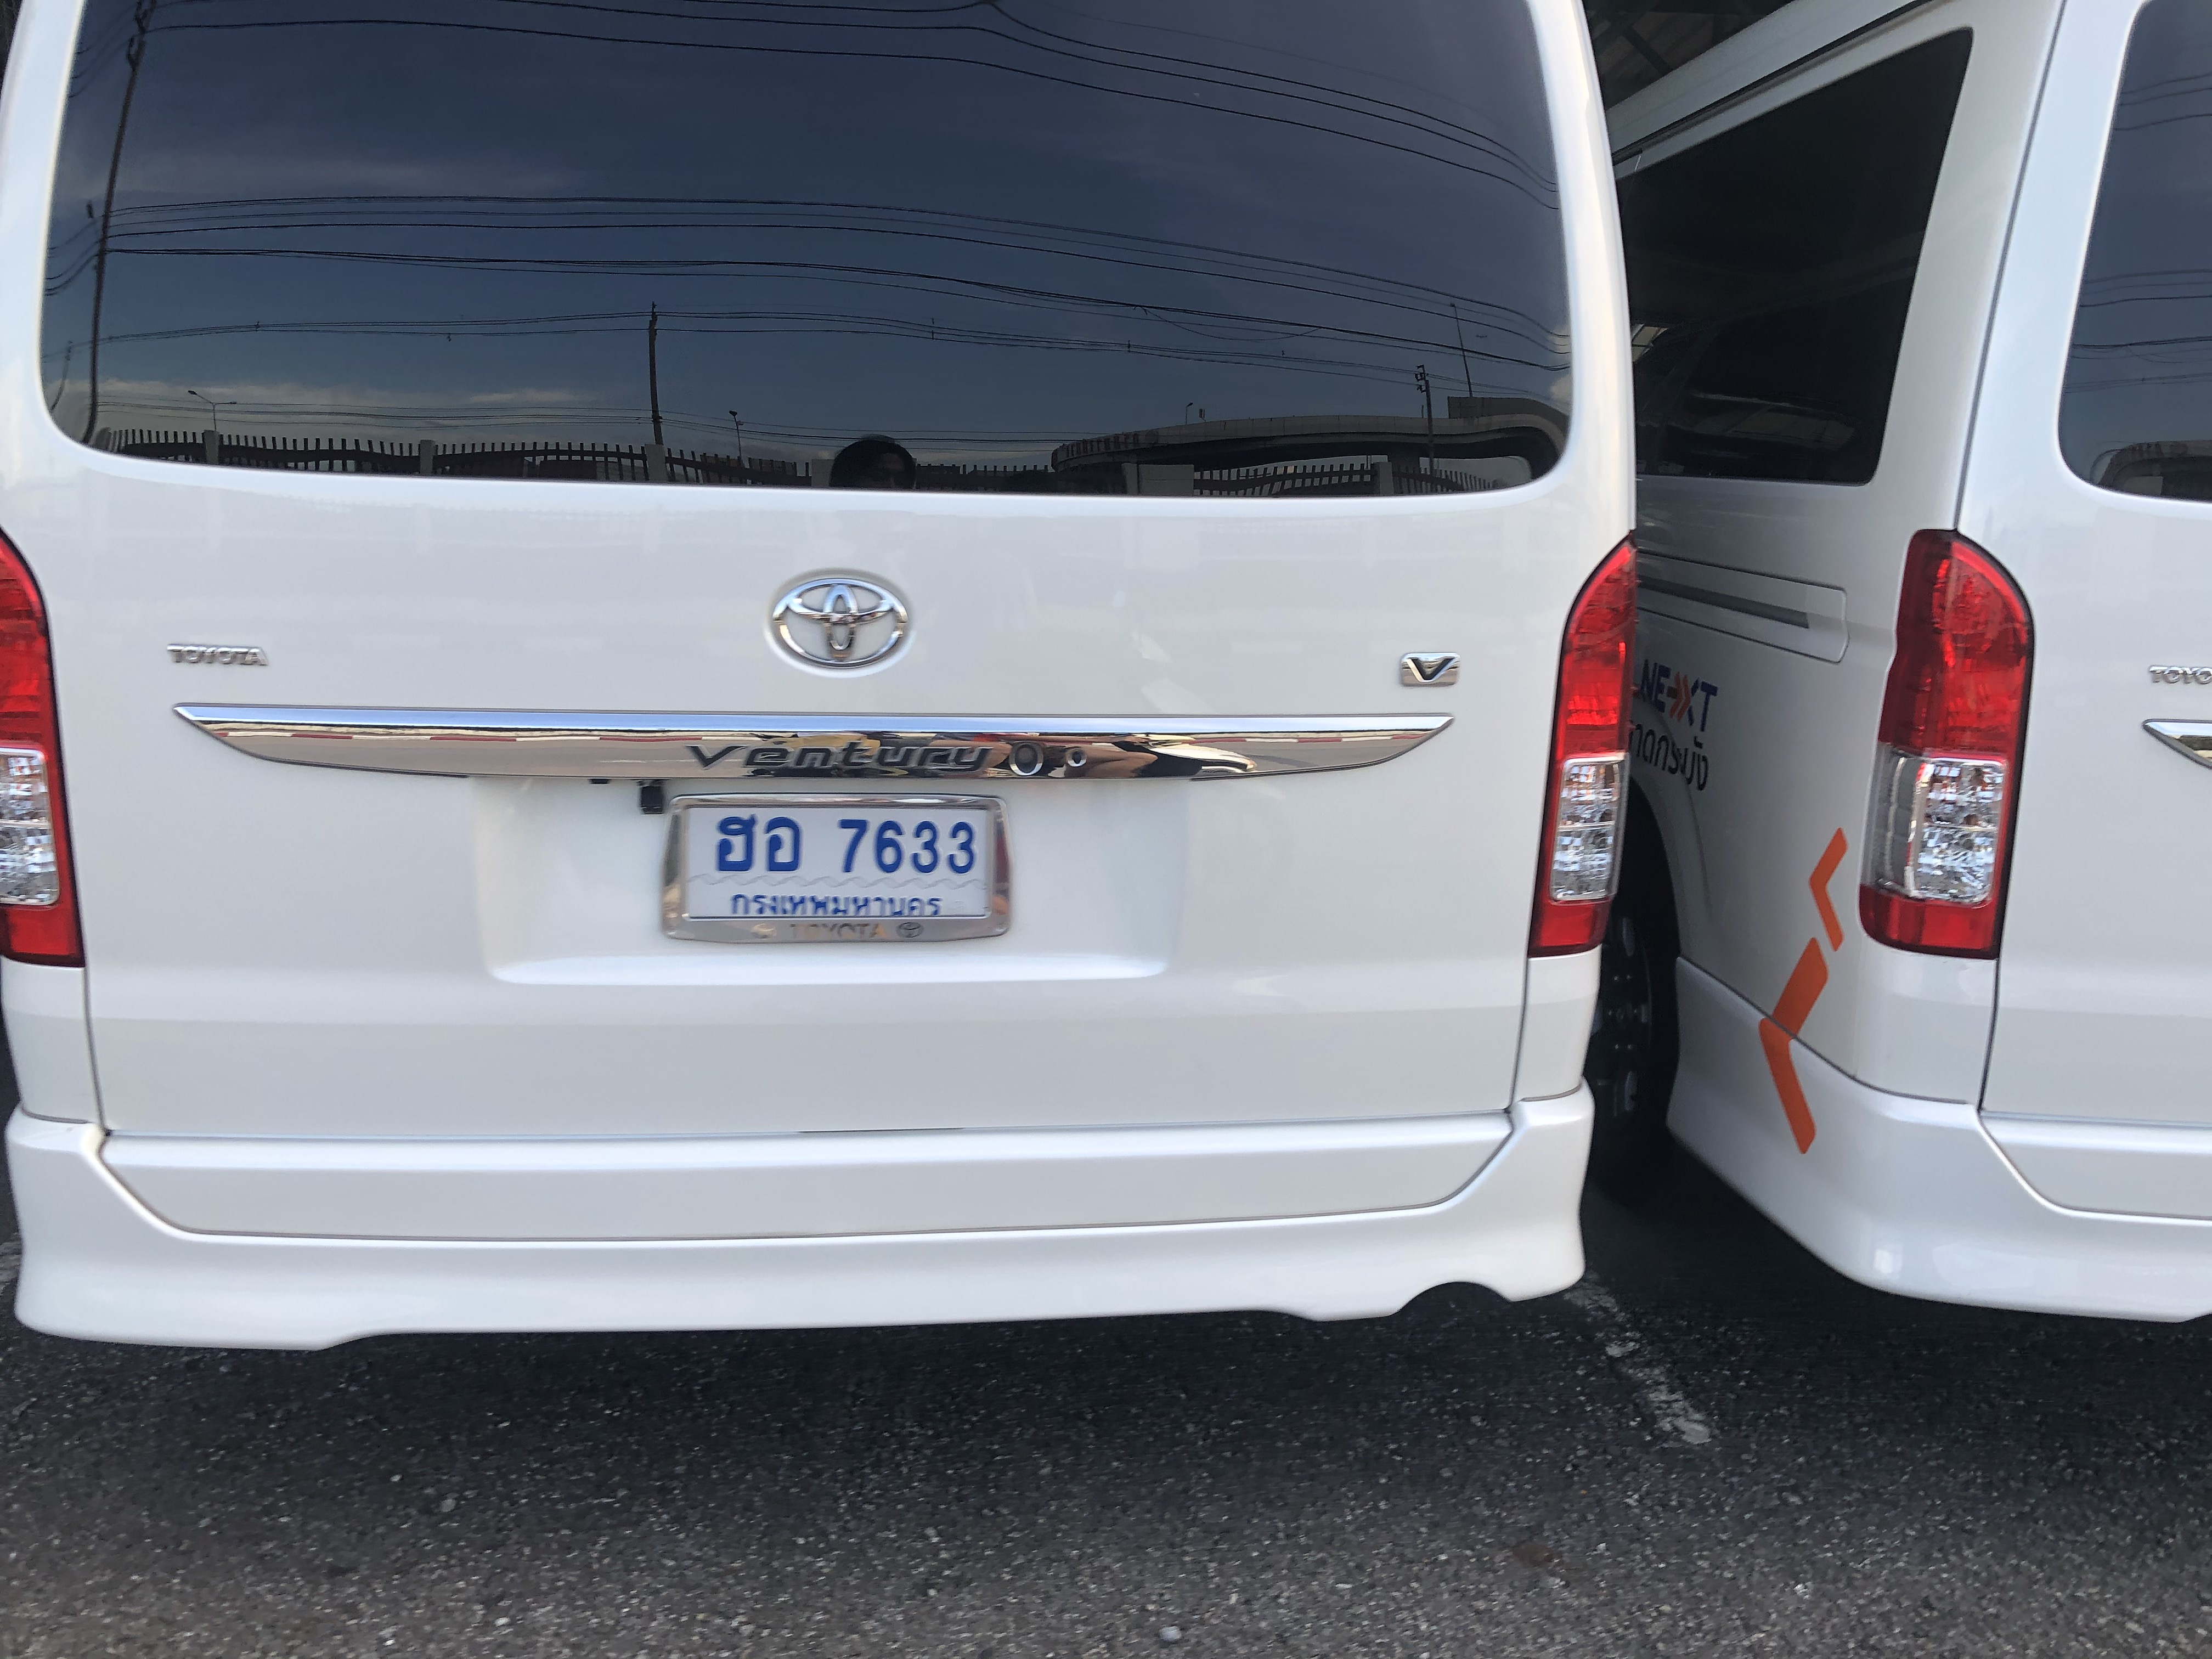in: (688, 809, 989, 920)
out: (658, 795, 1017, 943)
